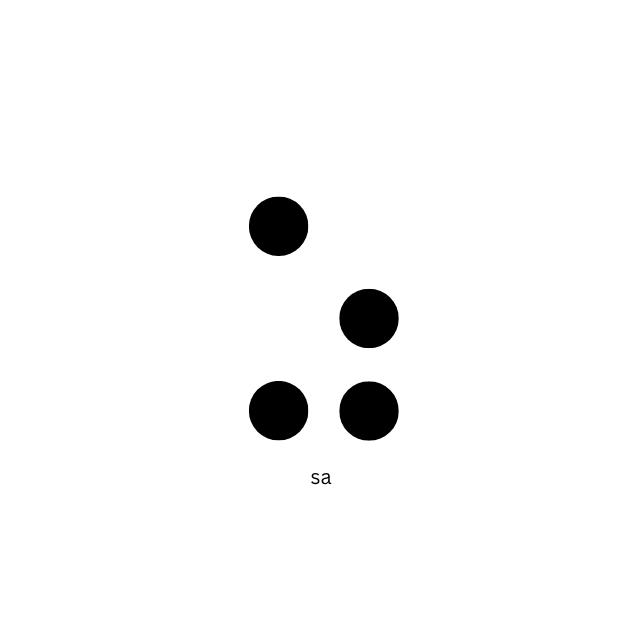one_cell_alphabet_sa: (248, 195, 400, 441)
